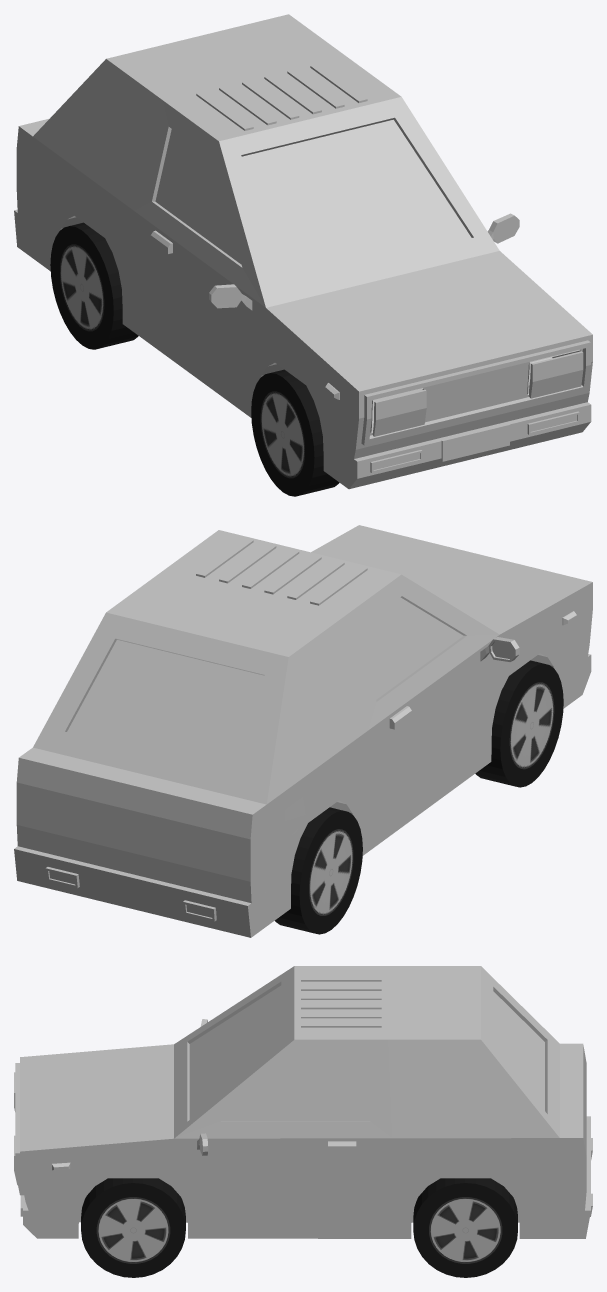
The model's file is LowPolyLongCar.fbx.
The picture shows the model from 3 angles, top to bottom: view 1: azimuth 30°, elevation 25°; view 2: azimuth 150°, elevation 25°; view 3: azimuth 270°, elevation 25°; orthographic projection. The views are drawn at different scales.
Visible parts, largest first — view 1: LongCar.Mesh, FrontWheel.Mesh.R, RearWheel.Mesh.R; view 2: LongCar.Mesh, FrontWheel.Mesh.R, RearWheel.Mesh.R; view 3: LongCar.Mesh, FrontWheel.Mesh.L, RearWheel.Mesh.L.
Part boxes in pixels (<box>): LongCar.Mesh: <box>14,14,592,489</box>; FrontWheel.Mesh.R: <box>251,369,339,496</box>; RearWheel.Mesh.R: <box>50,222,138,349</box>; LongCar.Mesh: <box>14,525,592,937</box>; FrontWheel.Mesh.R: <box>475,660,563,787</box>; RearWheel.Mesh.R: <box>275,807,362,934</box>; LongCar.Mesh: <box>14,966,592,1238</box>; FrontWheel.Mesh.L: <box>81,1178,185,1277</box>; RearWheel.Mesh.L: <box>413,1178,517,1277</box>.
Bounding box in the file's own units: 0.8441 × 0.7157 × 1.66.
